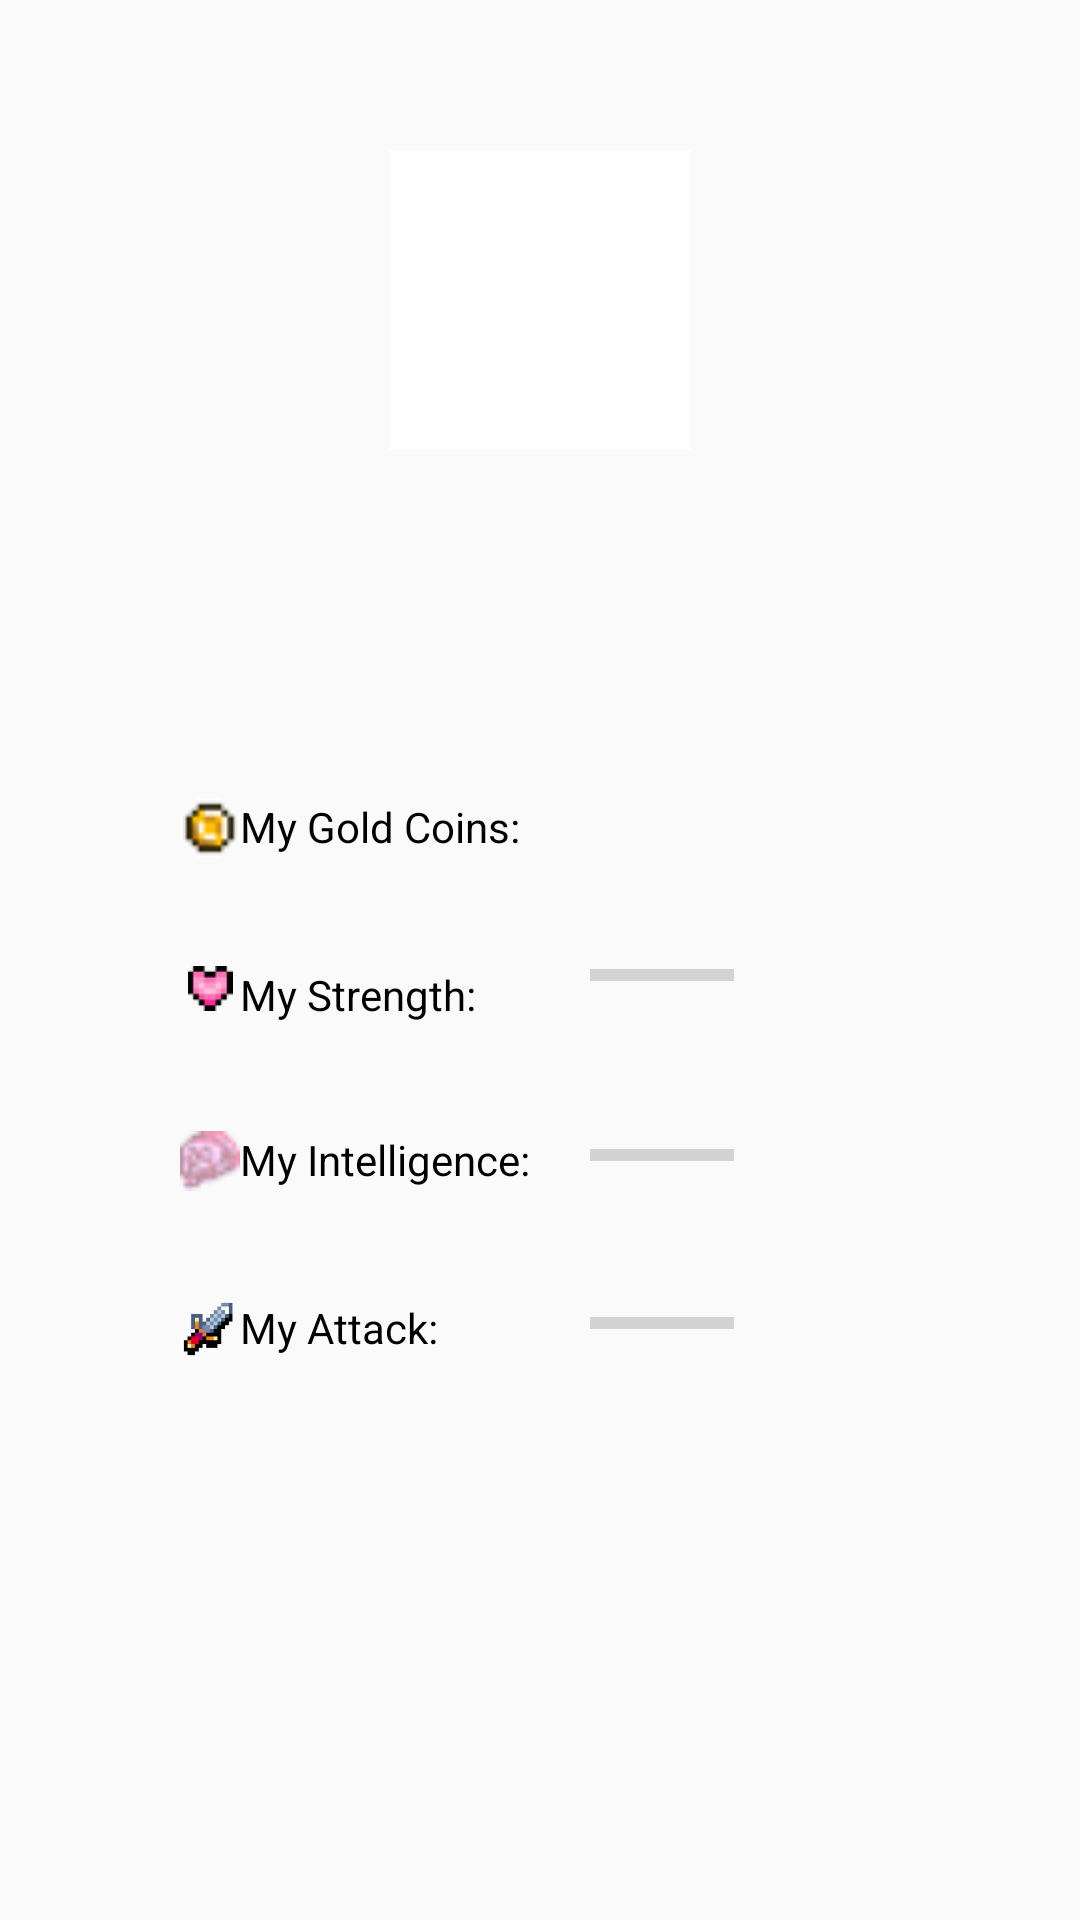

Screen size 1080px×1920px. Icon name, then its box in pixels as rect(x1, y1, x2, y2):
heart: rect(188, 966, 233, 1011)
